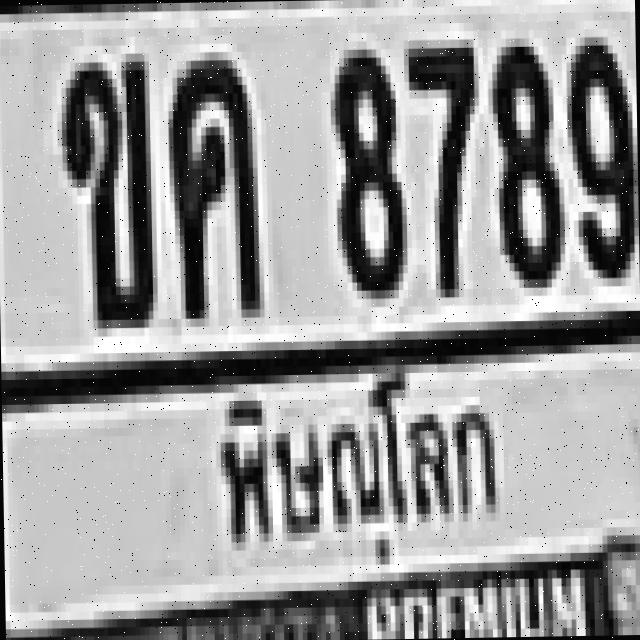11KhorKhai: (53, 53, 151, 321)
13KhorKhwai: (167, 51, 255, 310)
7: (403, 38, 472, 290)
8: (332, 39, 401, 290), (486, 38, 556, 280)
9: (566, 28, 634, 270)
Phitsanulok: (195, 365, 512, 587)
